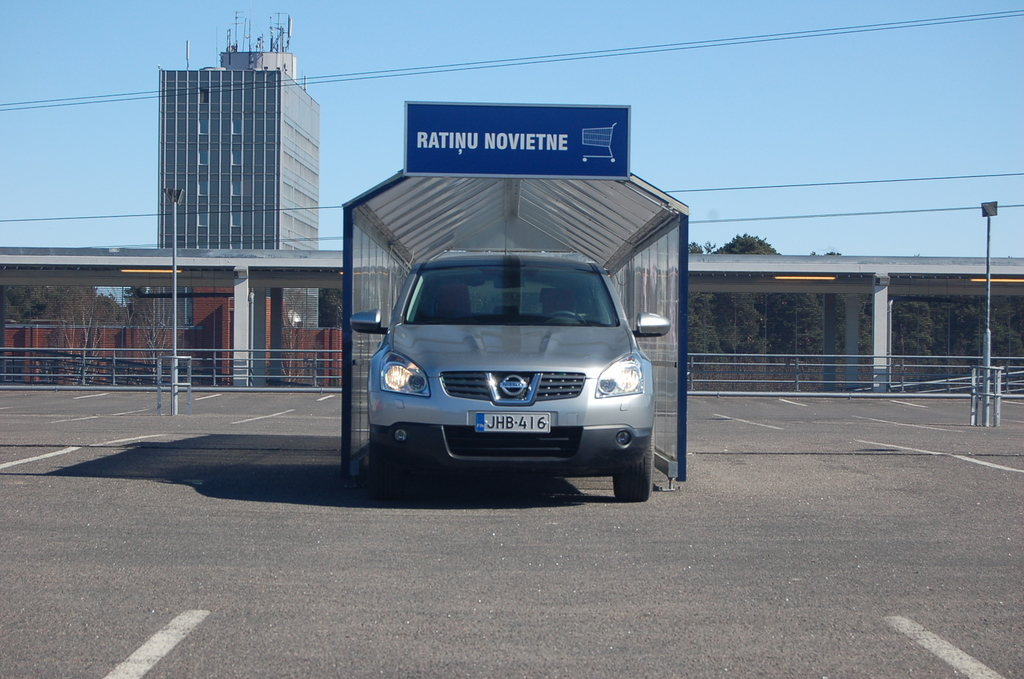Car: (338, 247, 673, 497)
